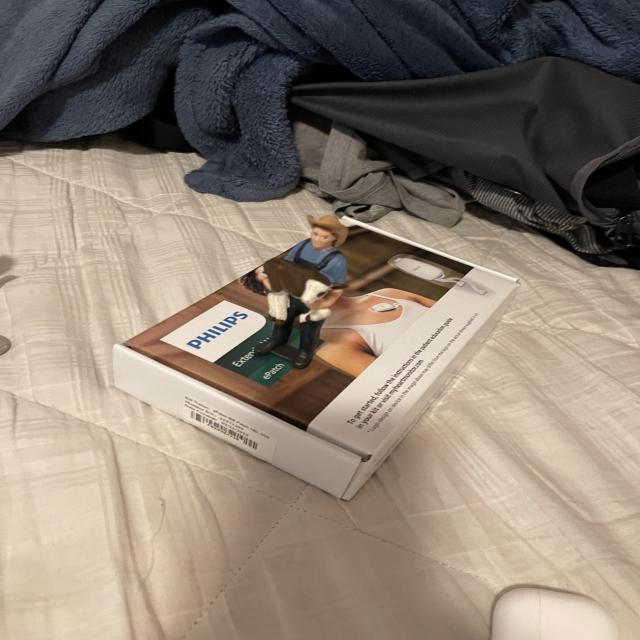cow: (247, 237, 342, 326), (299, 308, 329, 323)
person: (283, 207, 373, 297), (257, 289, 315, 360), (287, 313, 324, 369), (251, 265, 274, 287)
